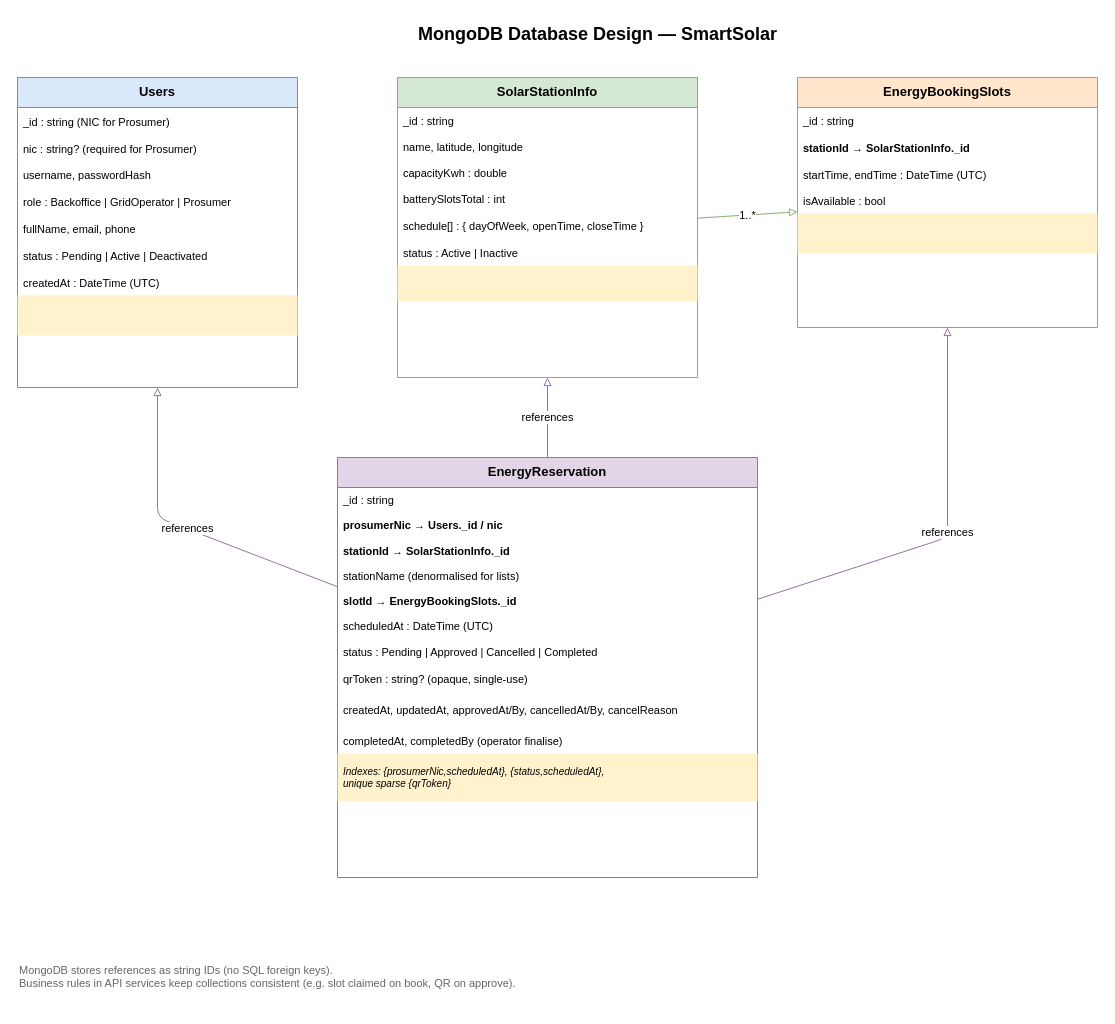
The diagram is 1115 pixels wide and 1024 high, and some of its shapes have lost their labels. The centre of each missing label's shape, as x and y in pixels:
Indexes: username unique, nic unique sparse: the point at 157,315
Must fit station schedule; overlap ≤ batteries: the point at 947,233
Used by nearby map + booking pickers: the point at 547,283
